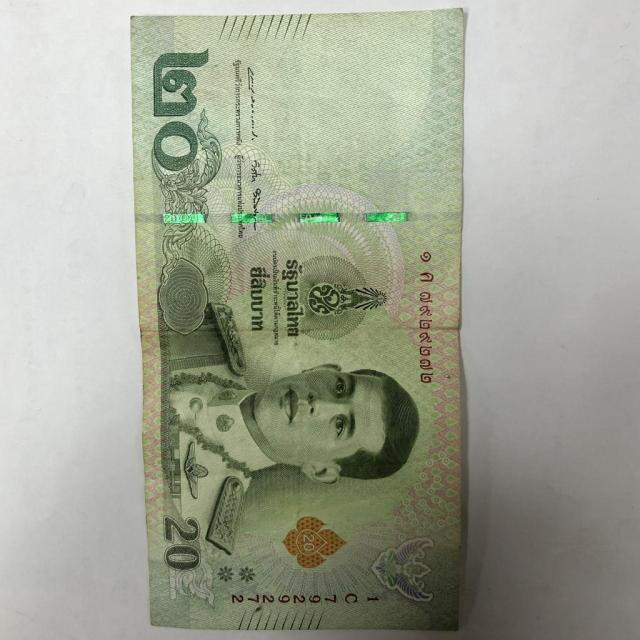THAI20: (127, 8, 473, 635)
